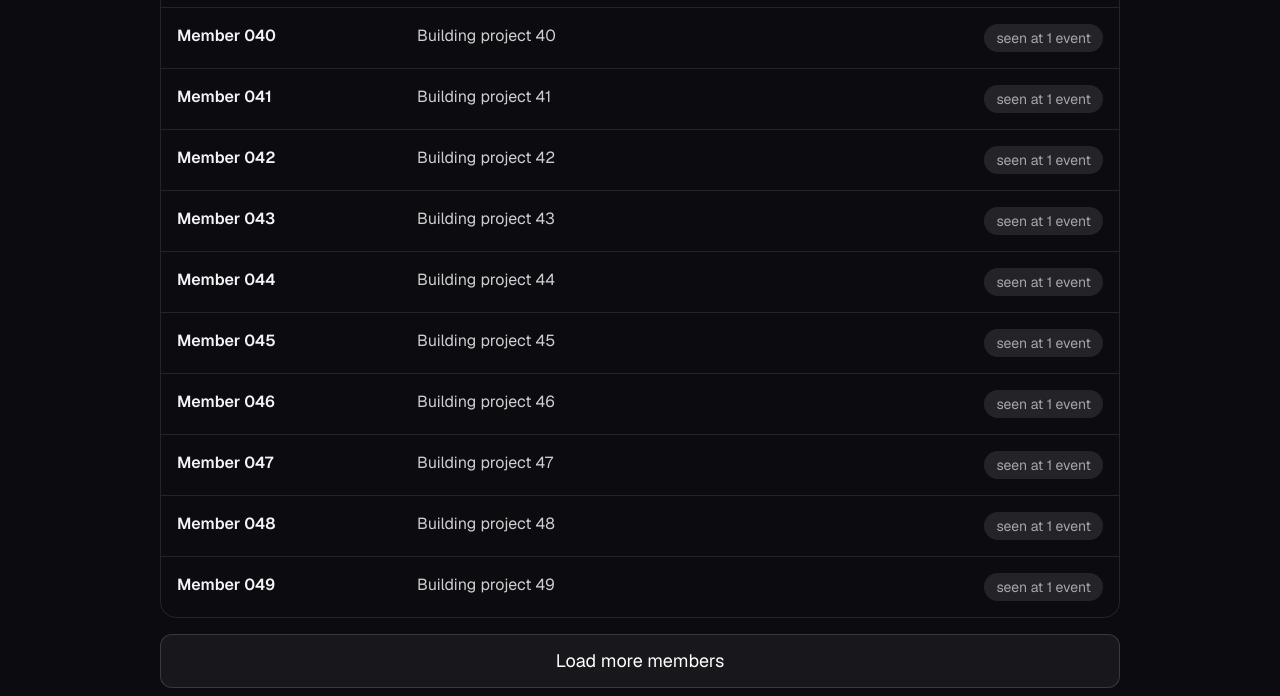
Test: directory pagination › loads the next database cursor page and appends it without duplicates
The width and height of the screenshot is (1280, 696).
(page scrolled)
Click the button "Load more members": (640, 661) x1=160 y1=634 x2=1120 y2=688
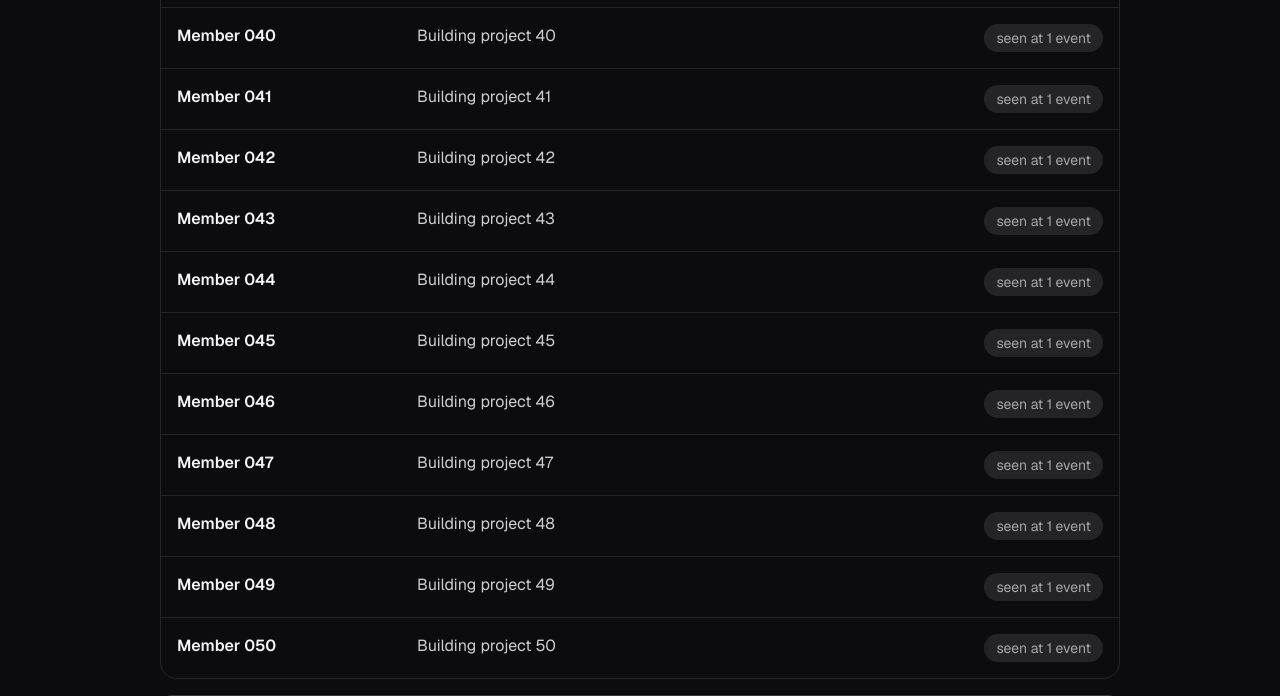
Expected: the text "Member 050" is shown, x1=177 y1=635 x2=276 y2=656
